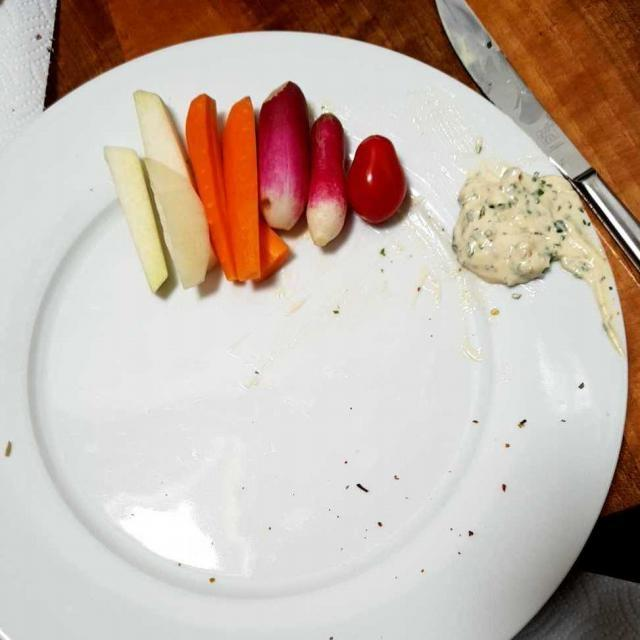carrot: (188, 86, 289, 298)
kolhrabi: (84, 97, 196, 298)
radish: (257, 85, 358, 259)
tomato: (358, 134, 414, 234)
